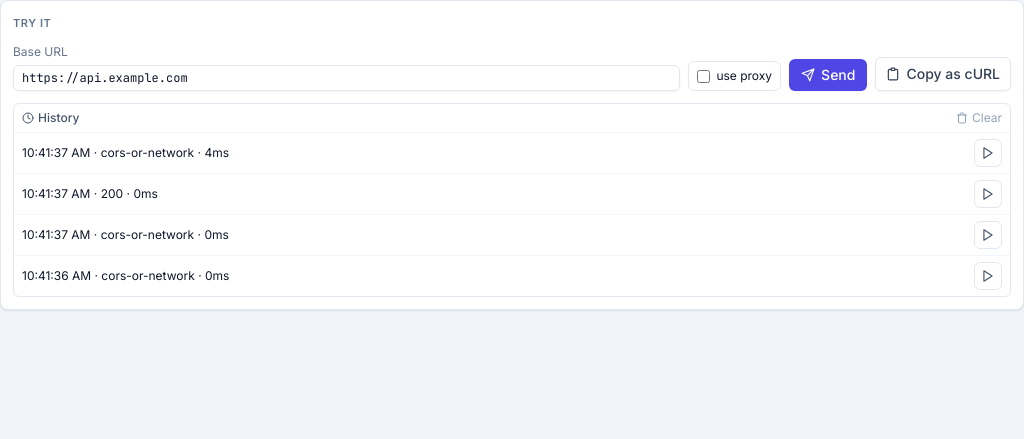
Test: timeout error does NOT render the retry button
Click the button "Send". click: click(828, 75)
box: [789,59,867,91]
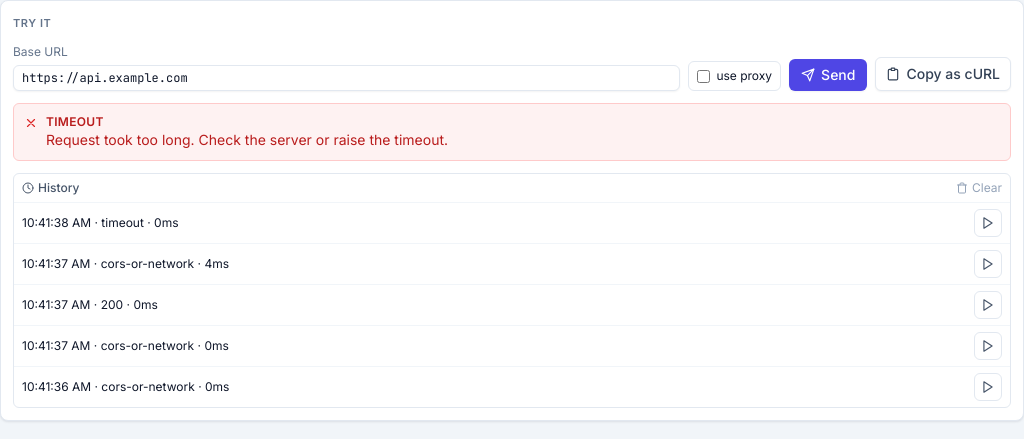
Now the message "timeout Request took too long. Check the server or raise the timeout." is shown, box [13,103,1011,161]
